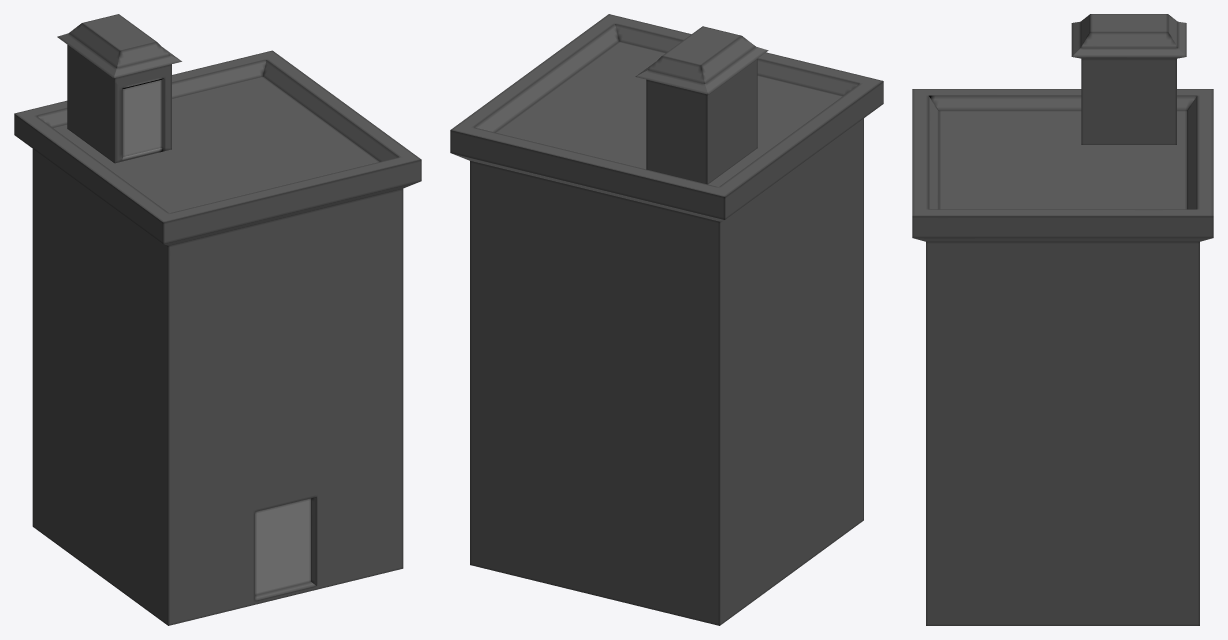
The model's file is TowerWithRooftopAccess.glb.
3 views of the same model, side by side, from view 1: azimuth 30°, elevation 25°; view 2: azimuth 150°, elevation 25°; view 3: azimuth 270°, elevation 25° (orthographic). The views are drawn at different scales.
Parts seen in each view (by area): view 1: Tower; view 2: Tower; view 3: Tower.
Boxes of the visible parts, x1,y1,x2,y2 form: Tower: (14,14,421,625); Tower: (450,14,883,625); Tower: (912,14,1213,625).
Size of the model in its own units: 11.27 by 21.14 by 11.27.
Materials: 1 (1 with a texture image).
